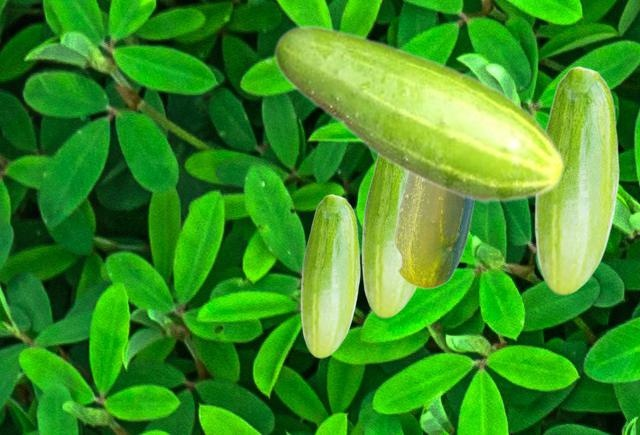cucumber: (273, 24, 565, 204), (534, 66, 618, 294), (300, 194, 359, 357), (393, 174, 475, 288), (361, 156, 416, 317)
